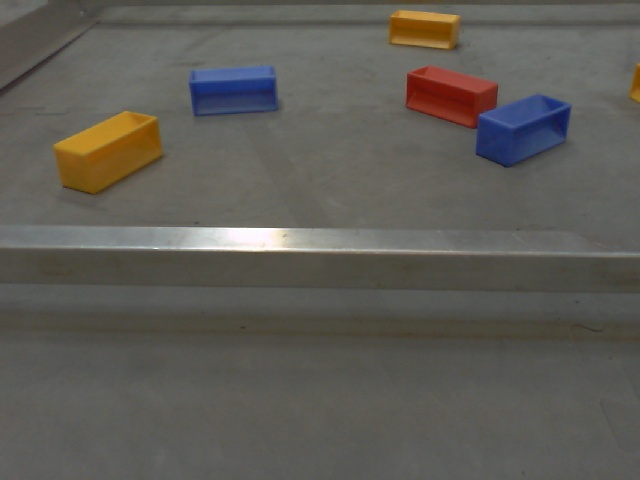BlueSample: (472, 88, 575, 171), (184, 63, 283, 118)
RedSample: (402, 63, 500, 131)
YellowSample: (47, 108, 166, 196), (385, 6, 463, 53)
